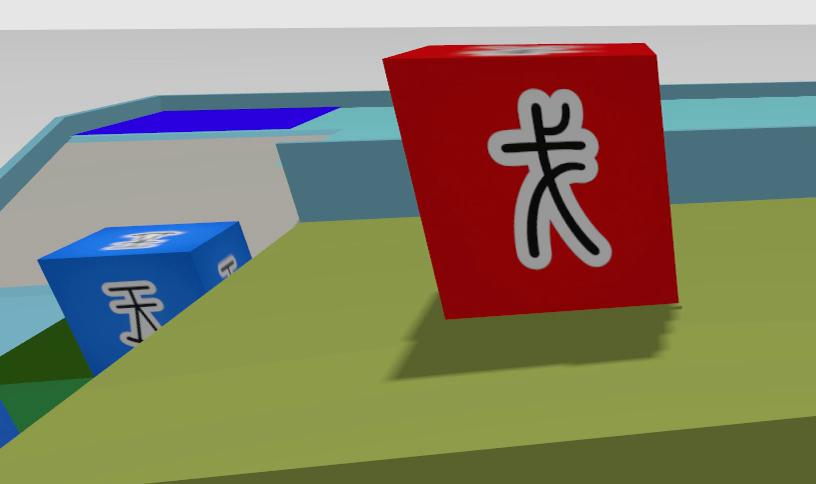KFS_FAKE: (384, 43, 677, 317), (488, 89, 611, 268)
KFS_REAL: (39, 221, 250, 374), (102, 280, 162, 345)
